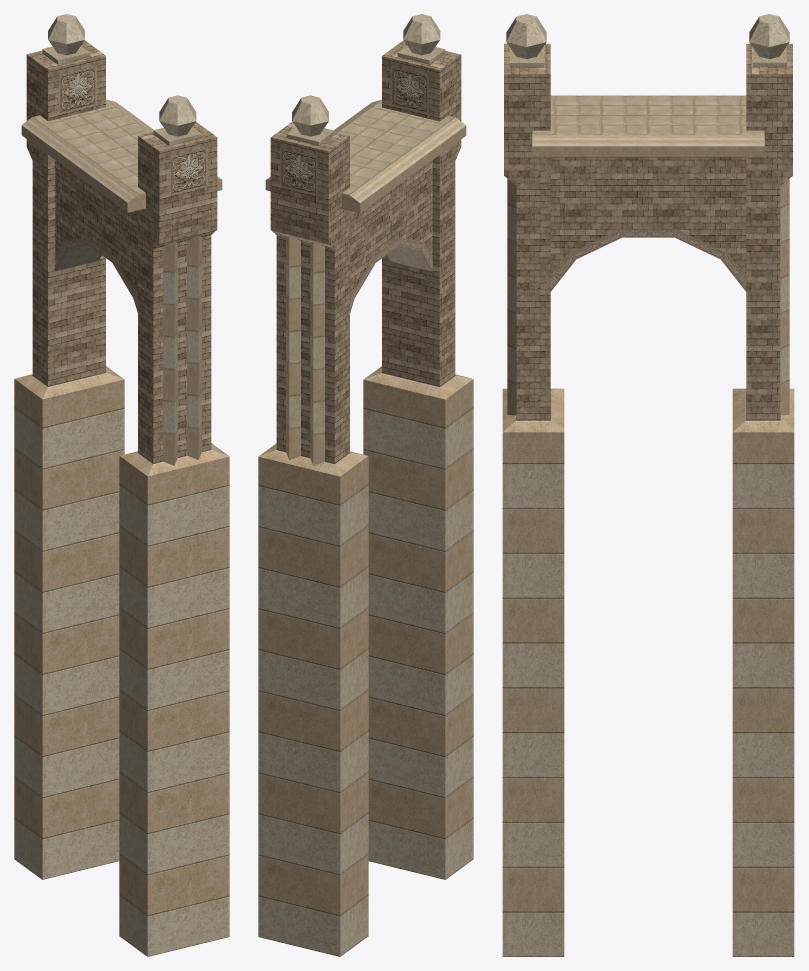
The model's file is thm_nboo_imprv_elevated_walkway_cap_s01_l1.fbx.
3 views of the same model, side by side, from view 1: azimuth 30°, elevation 25°; view 2: azimuth 150°, elevation 25°; view 3: azimuth 270°, elevation 25° (orthographic). The views are drawn at different scales.
Visible parts, largest first — view 1: mesh_node; view 2: mesh_node; view 3: mesh_node.
Boxes of the visible parts, x1,y1,x2,y2 form: mesh_node: (14,14,229,956); mesh_node: (258,14,473,956); mesh_node: (502,14,794,956).
Size of the model in its own units: 2.56 by 21.67 by 6.28.
